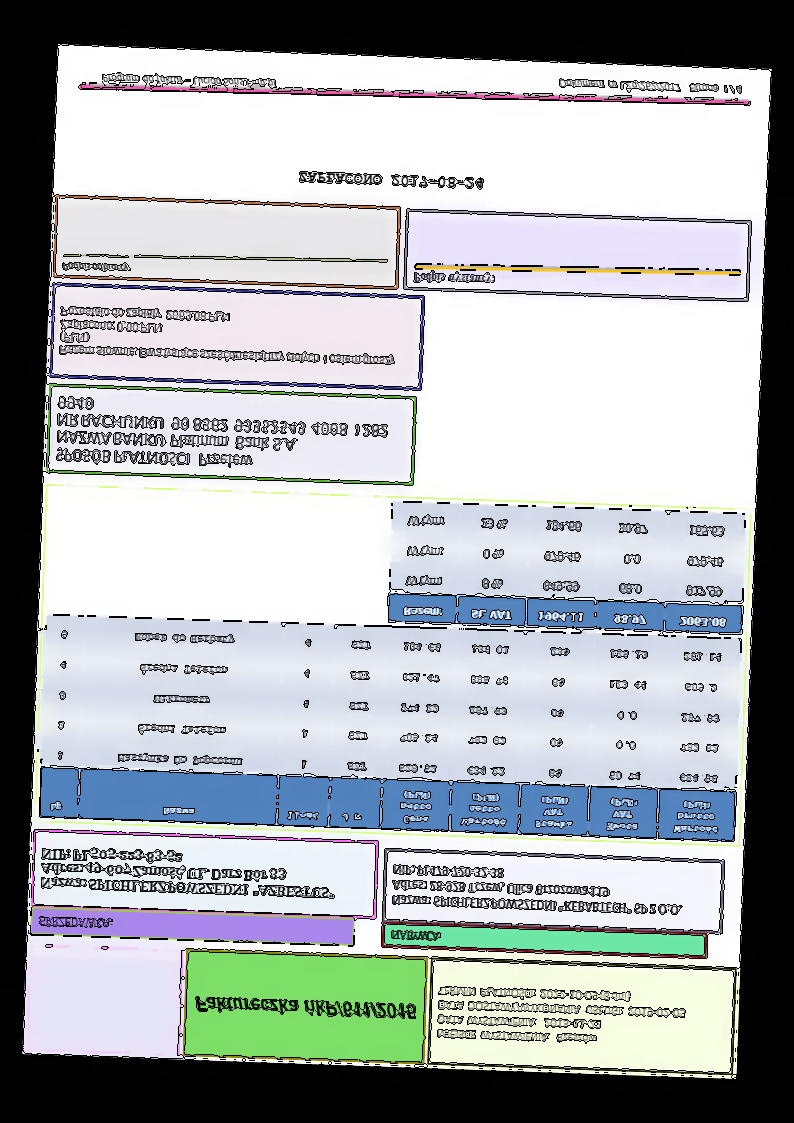Table: (37, 612, 744, 844), (384, 500, 749, 637)
TextBox: (52, 391, 395, 479), (56, 302, 403, 371), (37, 841, 337, 905), (433, 980, 693, 1053), (388, 858, 689, 921), (192, 990, 420, 1026), (553, 71, 747, 100), (296, 167, 487, 193), (97, 68, 281, 94), (409, 264, 498, 291), (34, 911, 115, 935), (55, 255, 132, 279), (387, 925, 444, 946)
